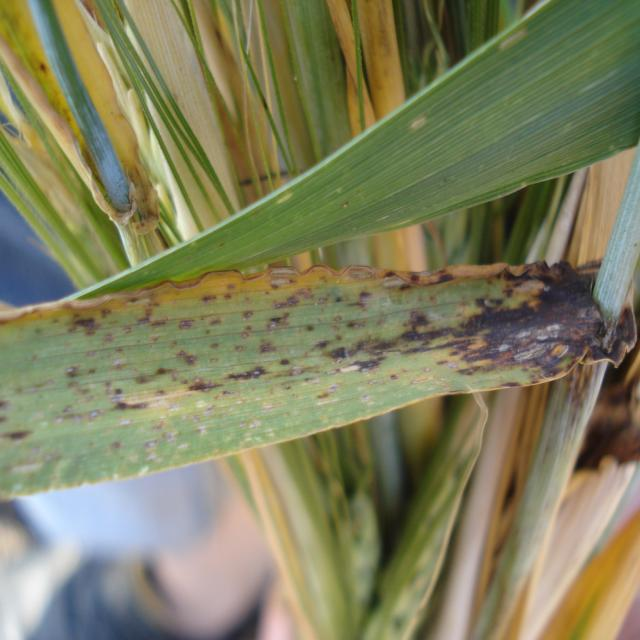wheat-stemrust: (0, 255, 639, 504)
